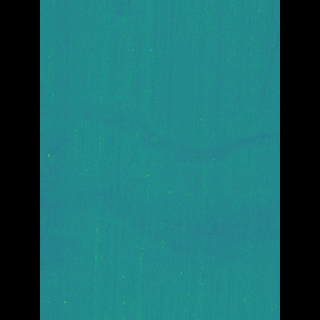Loch: (69, 74, 252, 277)
